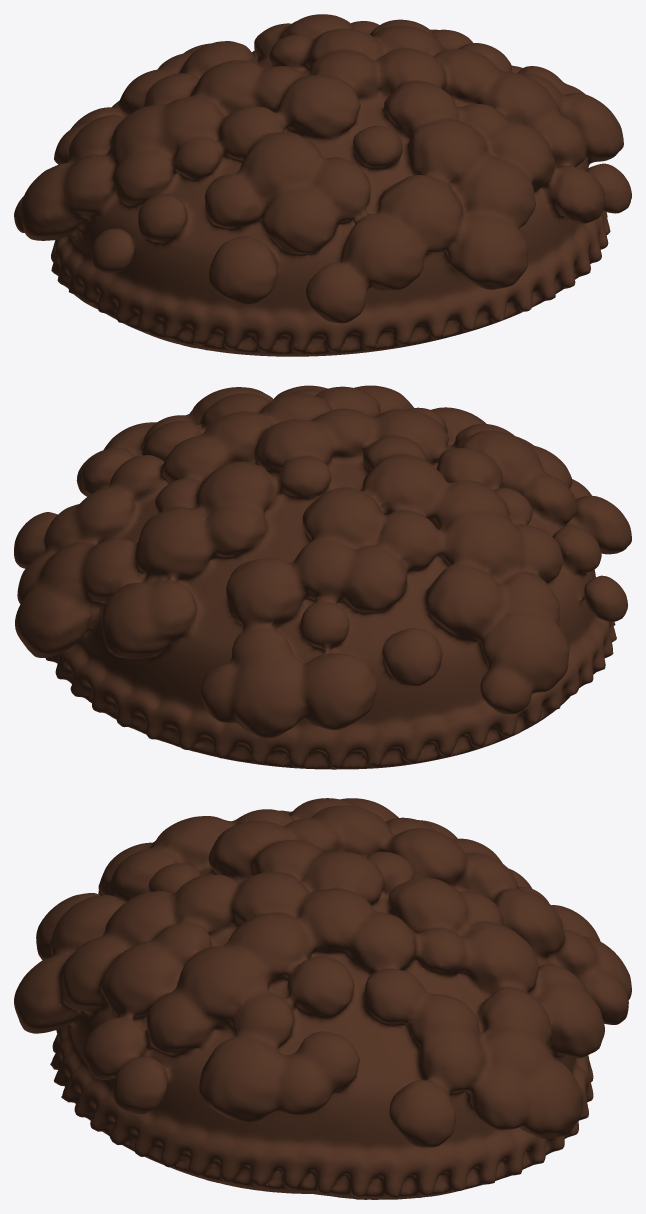
File: Masculine-afro-bandana-hair.glb
The picture shows the model from 3 angles, top to bottom: view 1: azimuth 30°, elevation 25°; view 2: azimuth 150°, elevation 25°; view 3: azimuth 270°, elevation 25°; orthographic projection. The views are drawn at different scales.
Parts seen in each view (by area): view 1: 226 hair / Hair / dense coiled texture235; view 2: 226 hair / Hair / dense coiled texture235; view 3: 226 hair / Hair / dense coiled texture235.
Part boxes in pixels (<box>): 226 hair / Hair / dense coiled texture235: <box>14,14,631,356</box>; 226 hair / Hair / dense coiled texture235: <box>14,385,631,769</box>; 226 hair / Hair / dense coiled texture235: <box>14,798,631,1199</box>.
Bounding box in the file's own units: 0.8711 × 0.388 × 0.826.
